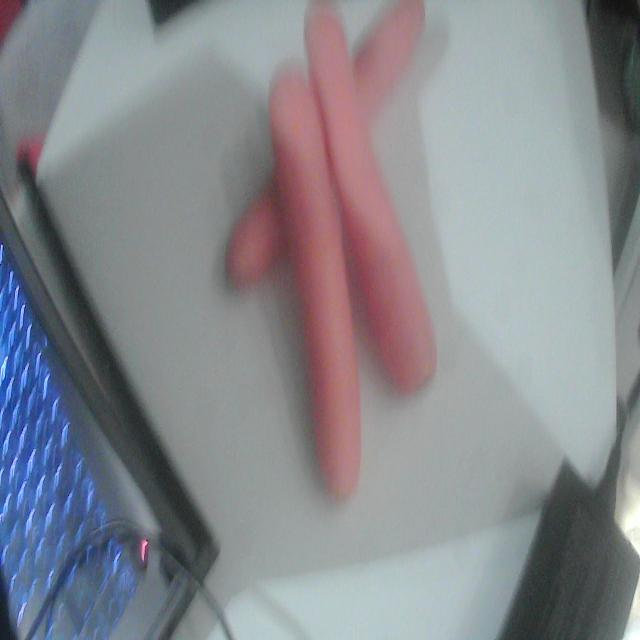Carrot: (306, 9, 436, 395), (270, 72, 360, 497)
